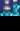recallP: (0, 0, 13, 16), (13, 0, 20, 16)
